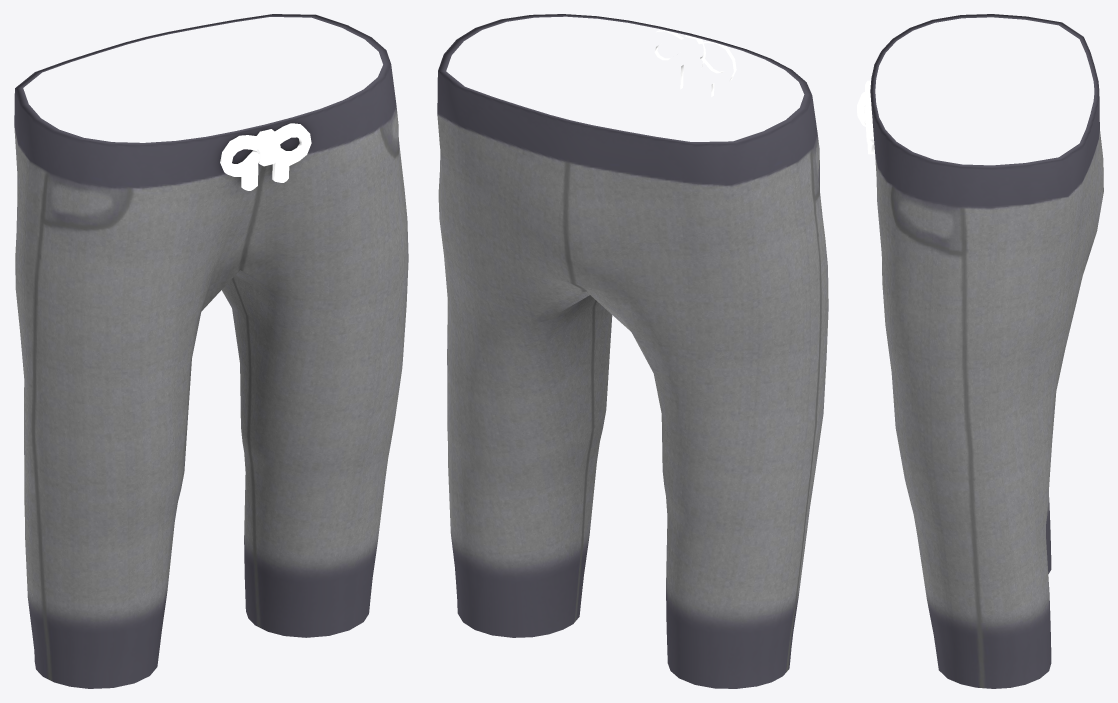
Rendered from lower_clothes_08.glb.
3 renders of one model, left to right at view 1: azimuth 30°, elevation 25°; view 2: azimuth 150°, elevation 25°; view 3: azimuth 270°, elevation 25°, orthographic. The views are drawn at different scales.
Visible parts, largest first — view 1: lower_clothes_08; view 2: lower_clothes_08; view 3: lower_clothes_08.
Boxes of the visible parts, bbox=[...] form: lower_clothes_08: bbox=[14, 14, 408, 688]; lower_clothes_08: bbox=[437, 14, 828, 688]; lower_clothes_08: bbox=[857, 14, 1103, 688].
Bounding box in the file's own units: 0.00485 × 0.00704 × 0.003.
1 material, 1 textured.
